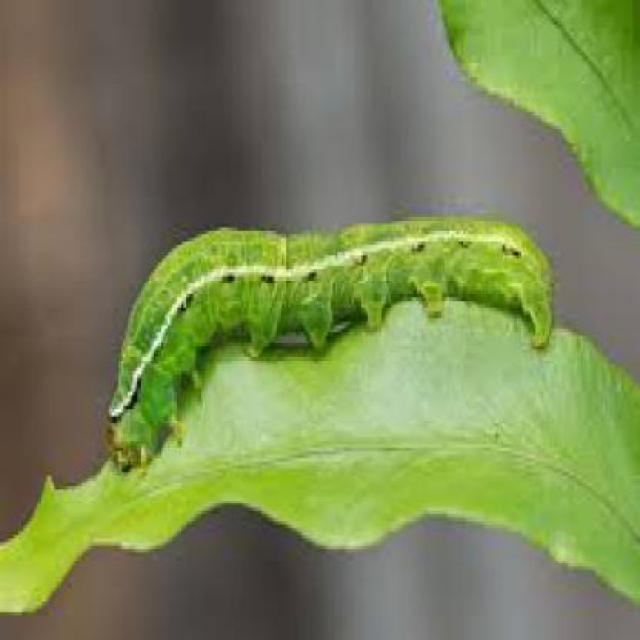Plaga: (90, 196, 561, 484)
